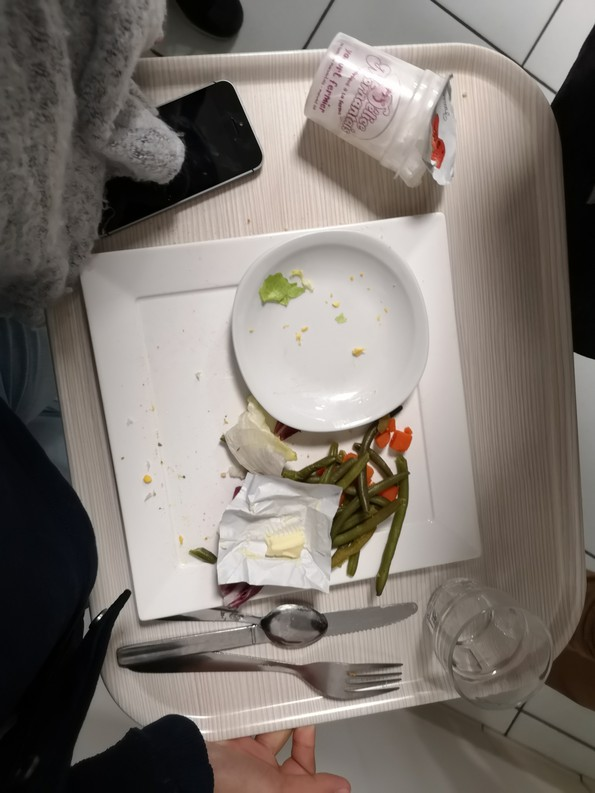cup: (432, 569, 567, 724)
cutlery: (87, 580, 427, 706)
orga: (323, 440, 416, 584), (222, 396, 301, 481)
trash: (299, 19, 487, 198), (219, 464, 346, 604)
